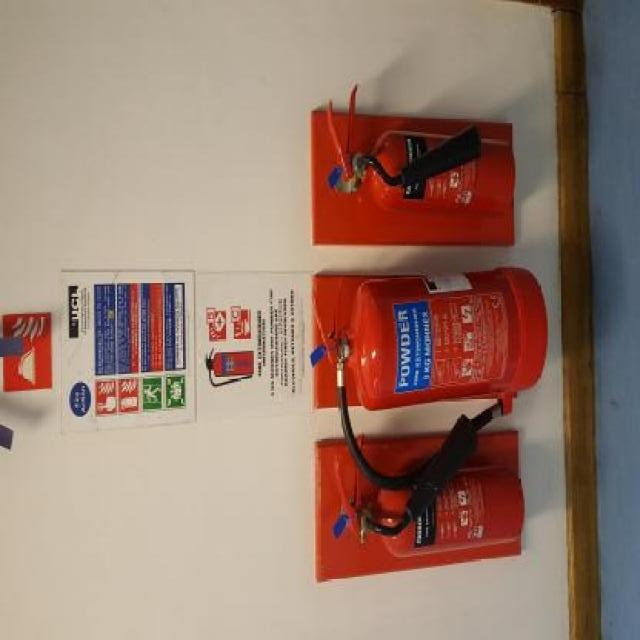fire extinguisher: (315, 260, 550, 423), (333, 445, 524, 572), (327, 114, 516, 223)
